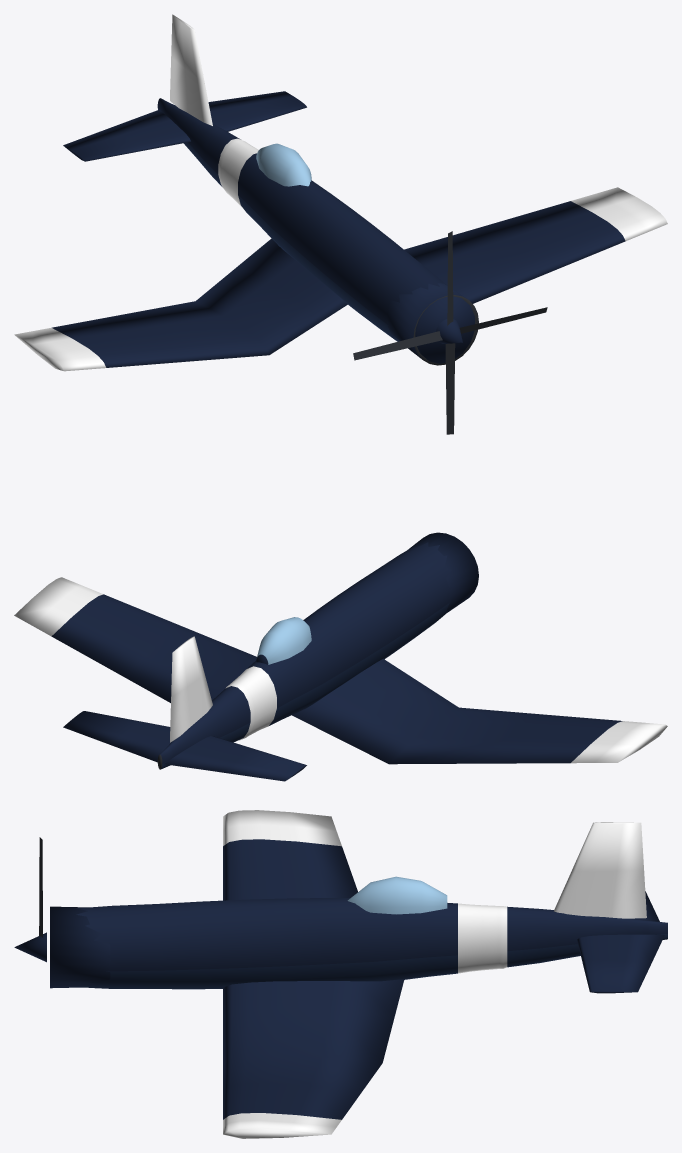
3 views of the same model, one above another, from view 1: azimuth 30°, elevation 25°; view 2: azimuth 150°, elevation 25°; view 3: azimuth 270°, elevation 25° (orthographic). The views are drawn at different scales.
Visible parts, largest first — view 1: body, prop; view 2: body; view 3: body, prop.
Boxes of the visible parts, x1=… form: body: x1=14, y1=14, x2=667, y2=371; prop: x1=353, y1=231, x2=547, y2=434; body: x1=14, y1=532, x2=667, y2=781; body: x1=50, y1=810, x2=667, y2=1138; prop: x1=14, y1=837, x2=46, y2=962.
Bounding box in the file's own units: 12.5 × 4.29 × 10.86.
